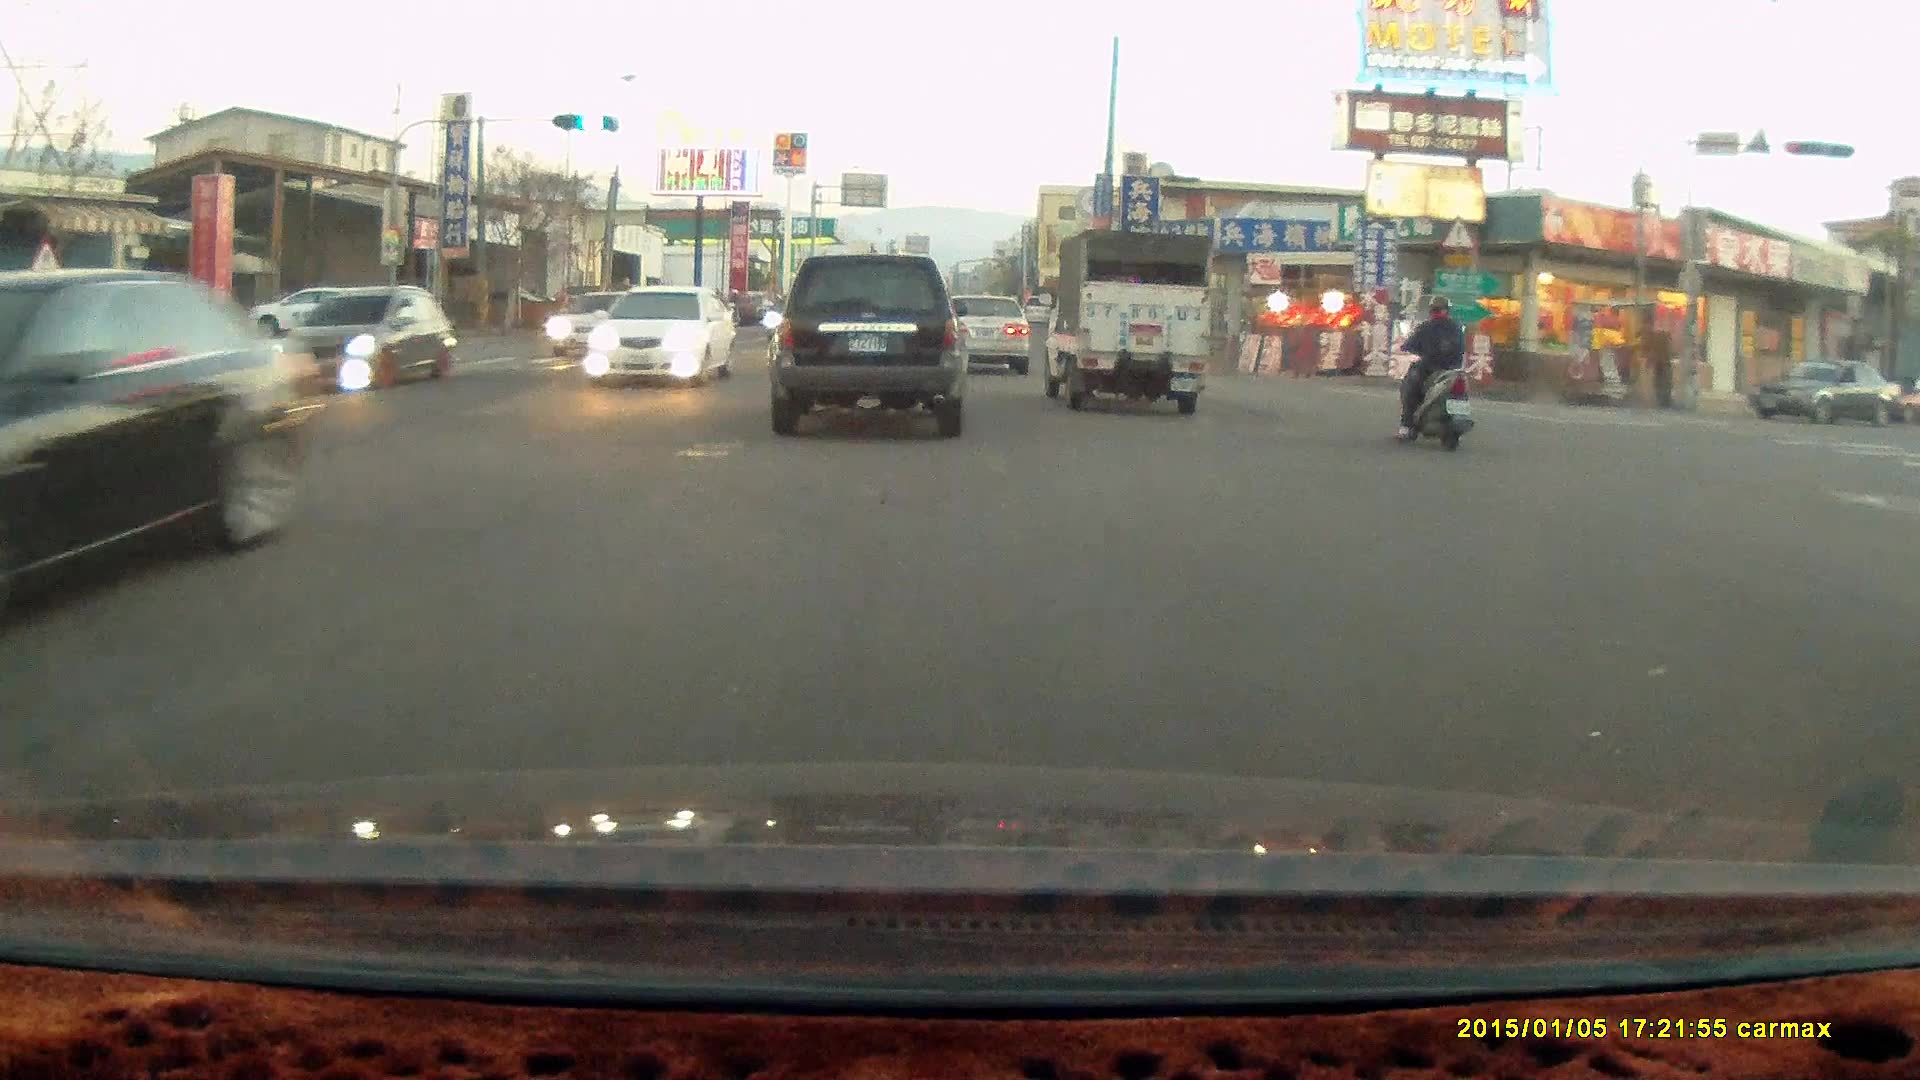rider: (1391, 290, 1477, 449)
vehicle: (1, 268, 317, 630), (766, 251, 969, 437), (1038, 227, 1213, 414), (266, 285, 459, 387), (588, 287, 739, 386), (1749, 359, 1904, 430), (549, 288, 662, 365), (930, 289, 1030, 375), (941, 293, 1034, 378), (259, 282, 385, 334)
